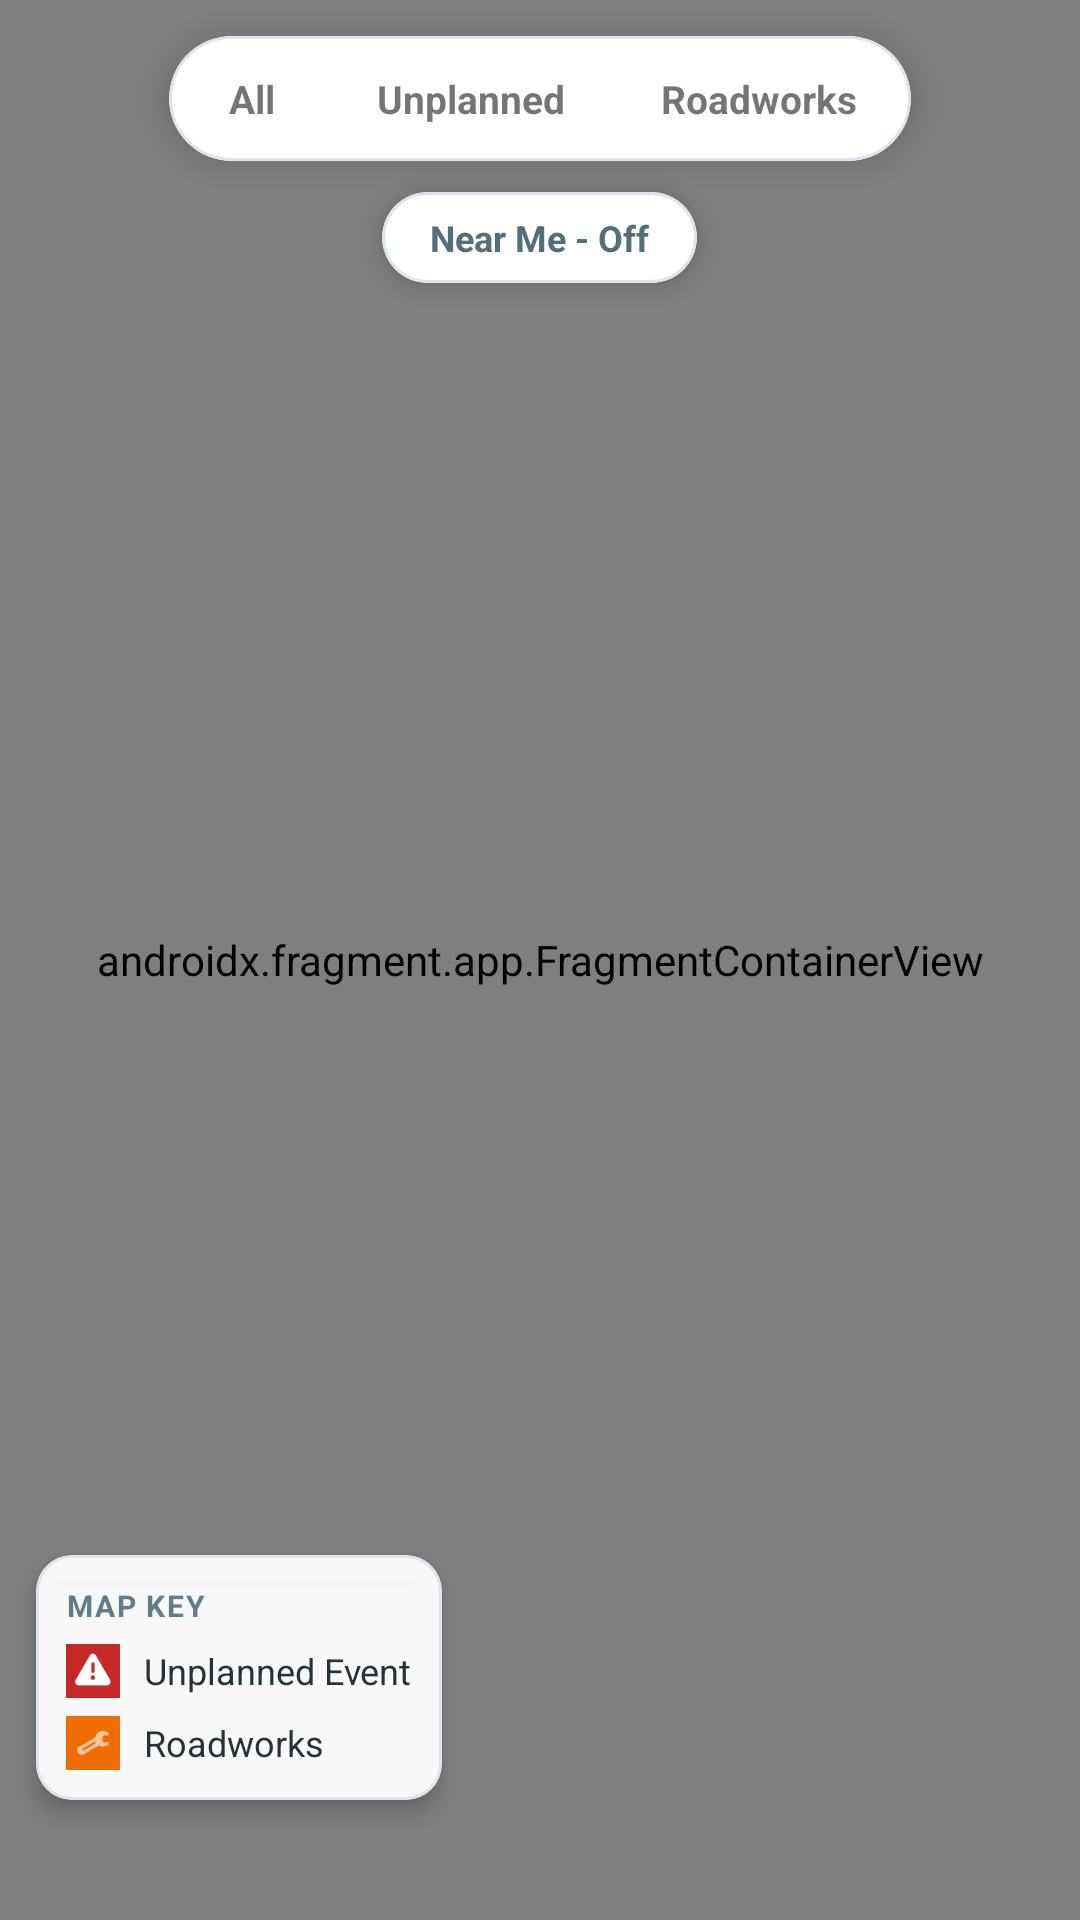

Icons on this 1080px x 1920px Android screen, each with the point to tap as (x,y):
alert: (93,1671)
manage: (93,1743)
